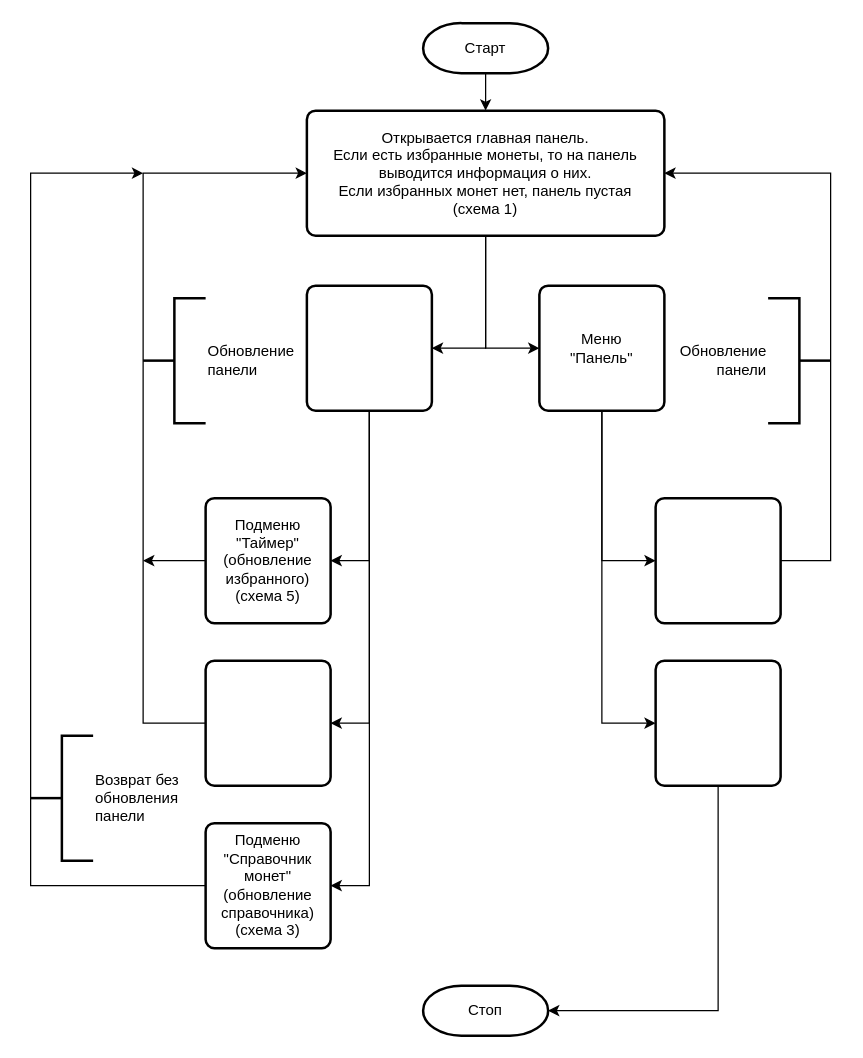
This 863x1058 diagram has some shape labels left out. Each missing label, with the centre of its shape:
Меню "Обновление": point (368, 347)
Подменю "Выбрать монеты" (формирование избранного) (схема 2): point (717, 560)
Подменю "Выход": point (717, 722)
Подменю "Избранное" (обновление избранного) (схема 4): point (267, 722)
